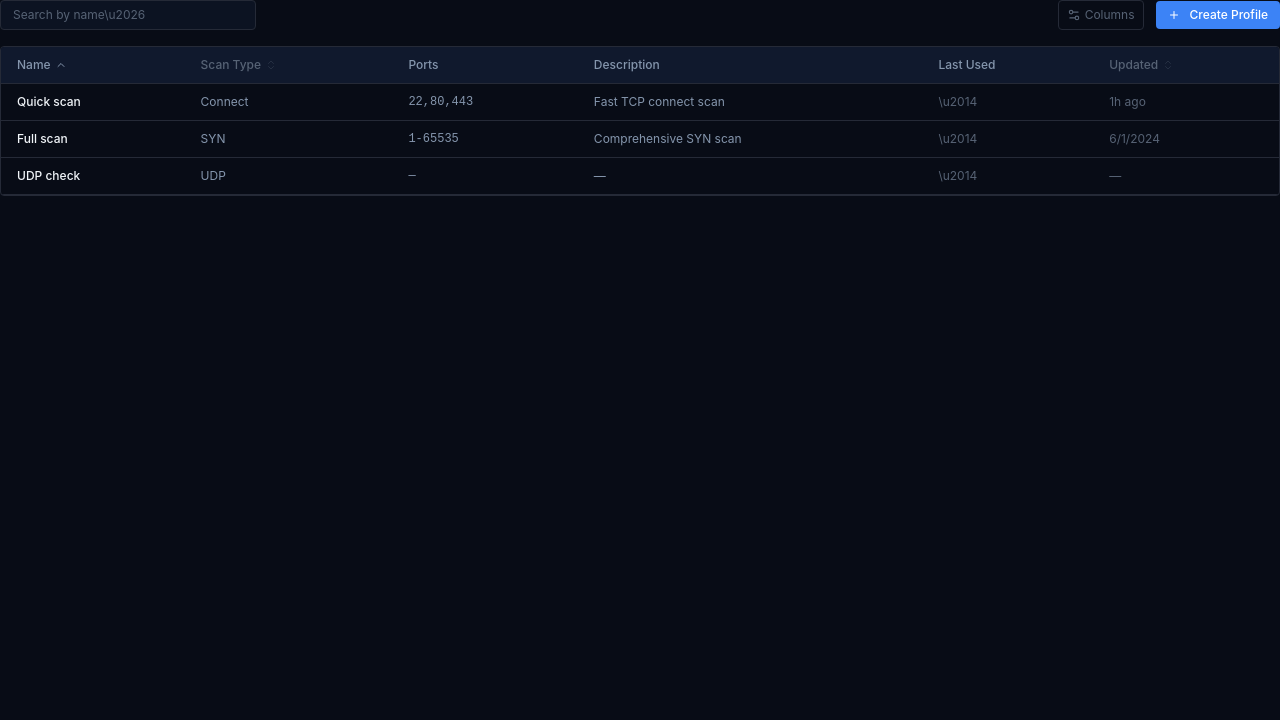
ProfilesPage — detail panel › opens the detail panel when a row is clicked
The width and height of the screenshot is (1280, 720).
Click the text "Quick scan".
click(640, 102)  # box [1,84,1279,120]
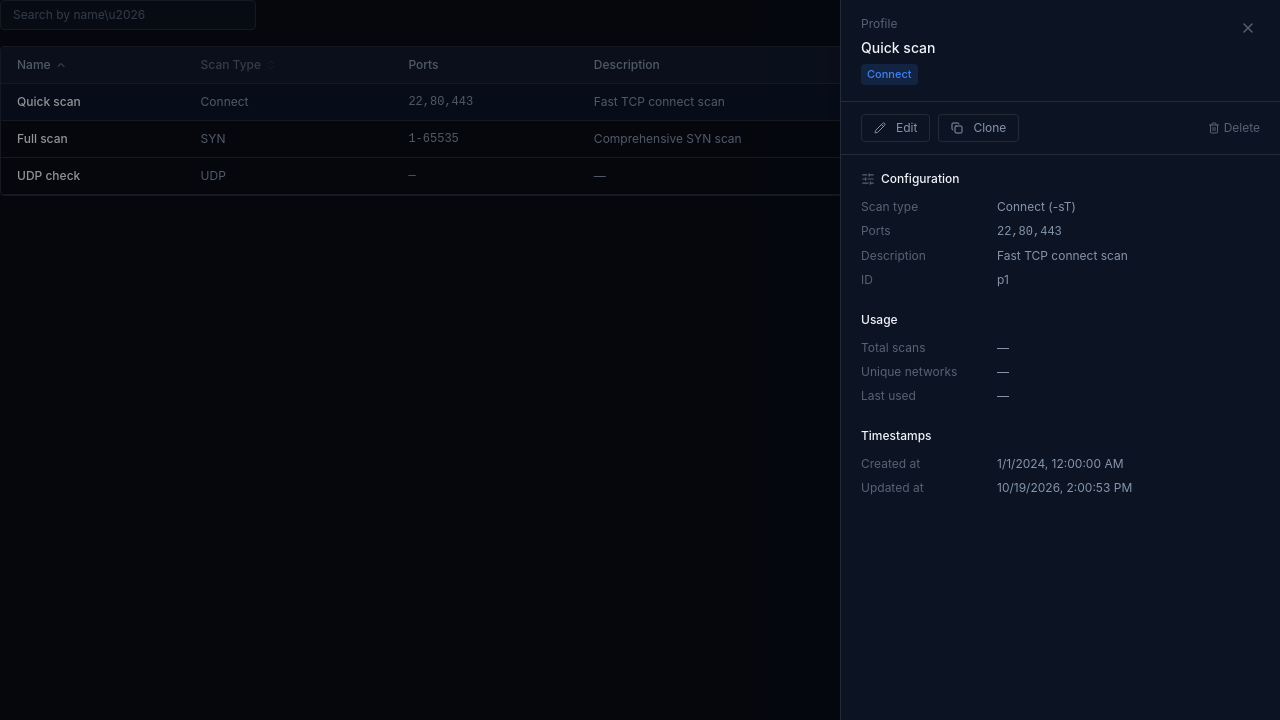
Check: the dialog named "profile details" is shown, box [840,0,1279,719]
